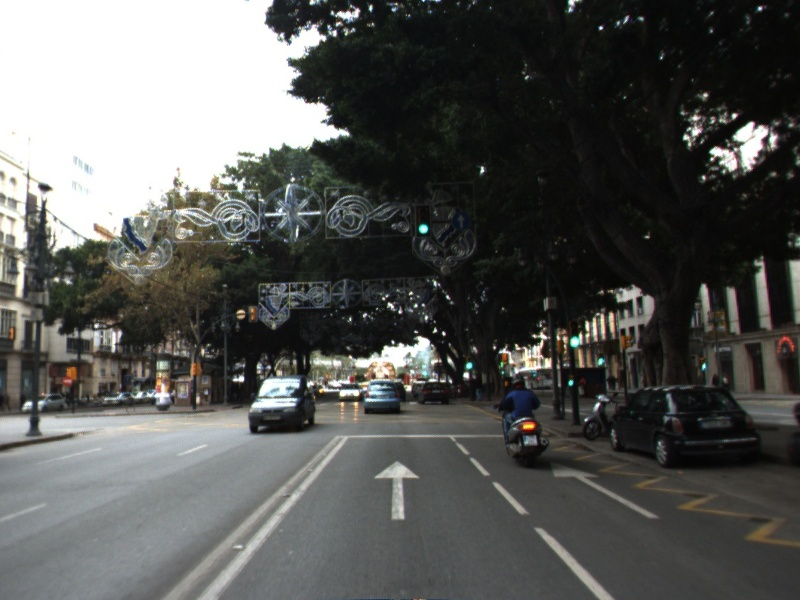STRAIGHT: (546, 457, 664, 521), (371, 457, 424, 523)
